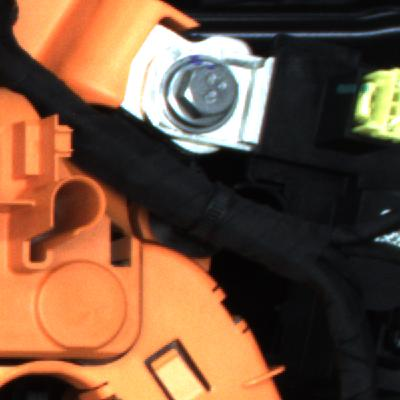nut_b: (157, 50, 253, 133)
